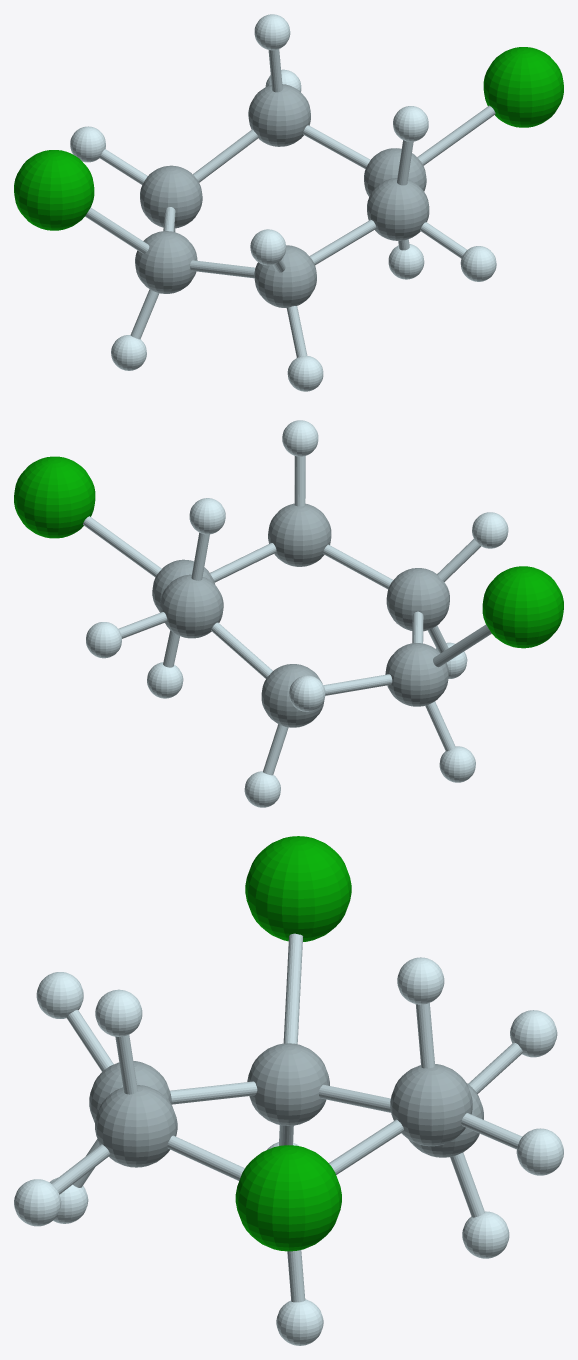
Rendered from irc_step_051.glb.
3 renders of one model, top to bottom at view 1: azimuth 30°, elevation 25°; view 2: azimuth 150°, elevation 25°; view 3: azimuth 270°, elevation 25°, orthographic. The views are drawn at different scales.
Visible parts, largest first — view 1: Renderer Node; view 2: Renderer Node; view 3: Renderer Node.
Boxes of the visible parts, x1=… form: Renderer Node: x1=14, y1=14, x2=563, y2=391; Renderer Node: x1=14, y1=420, x2=563, y2=807; Renderer Node: x1=14, y1=836, x2=563, y2=1345.
Size of the model in its own units: 6.87 by 3.28 by 4.65.
